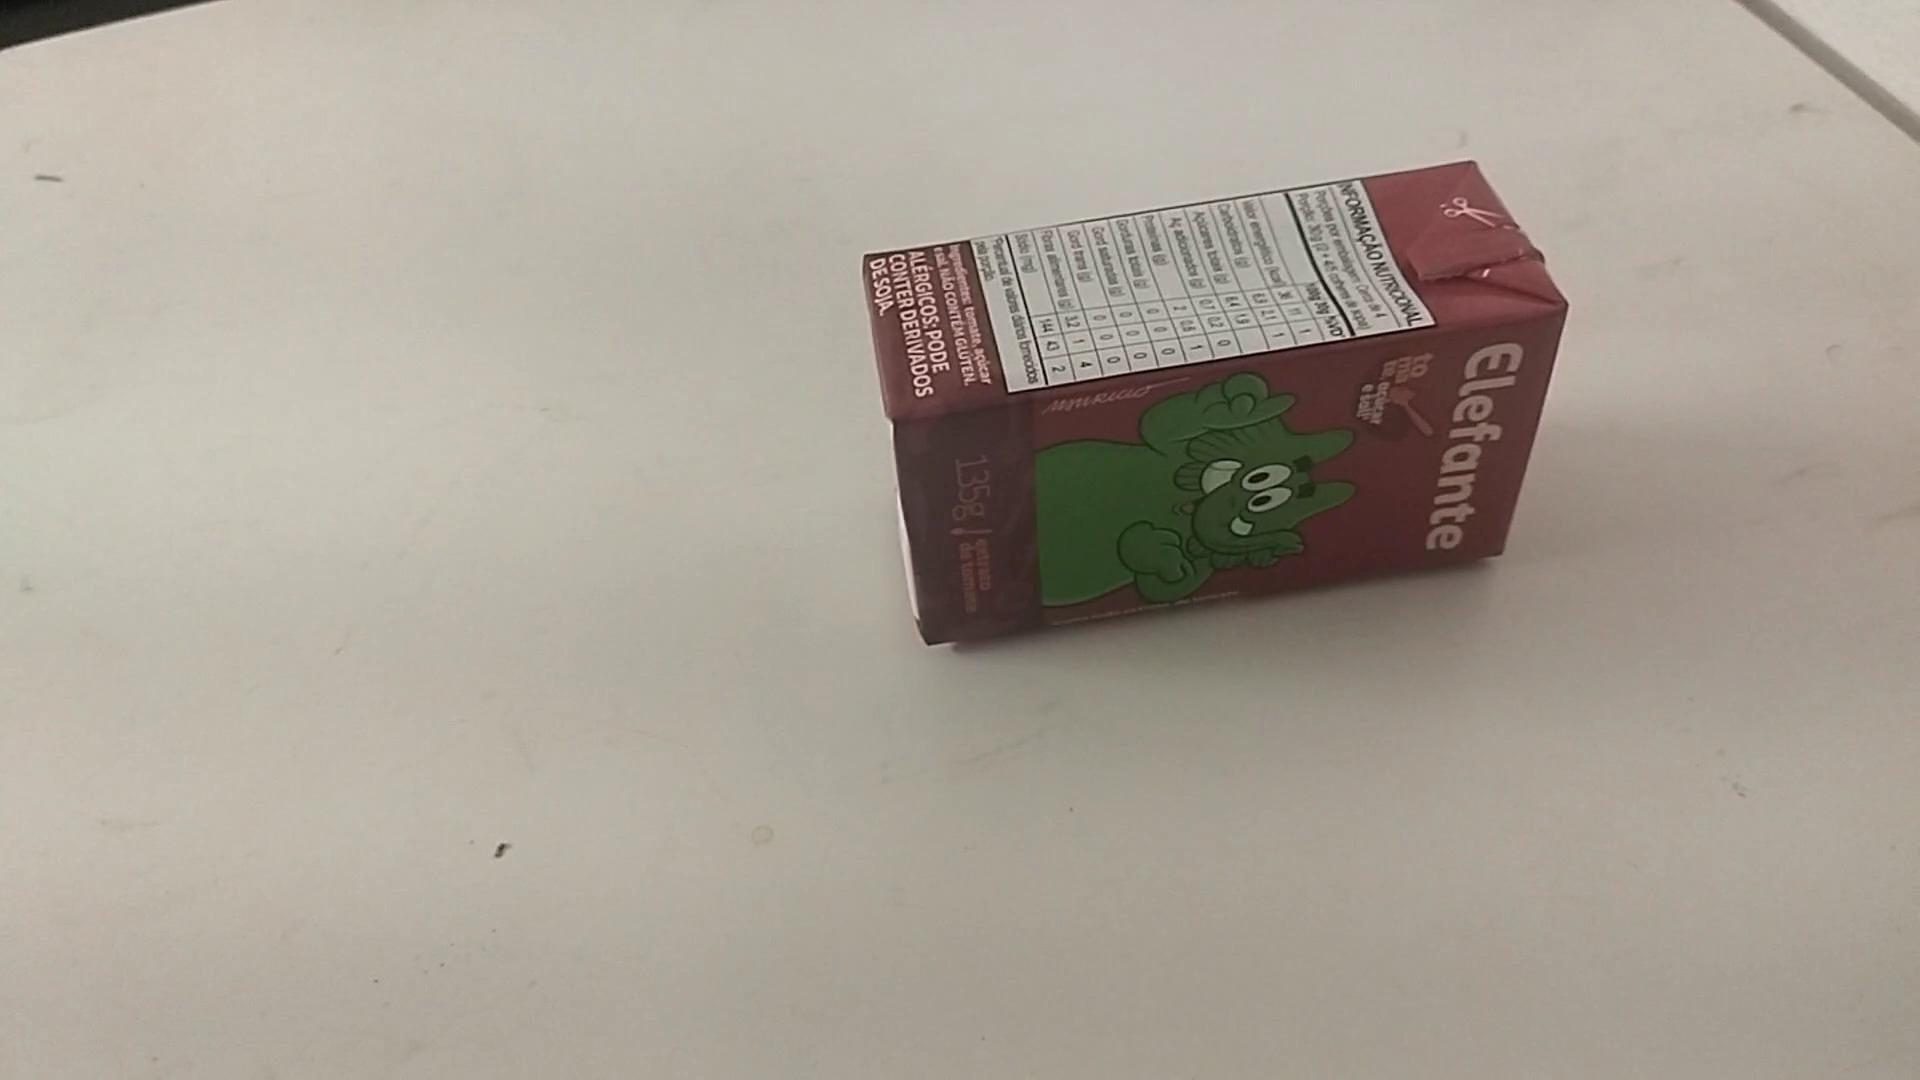tomate: (851, 148, 1567, 658)
